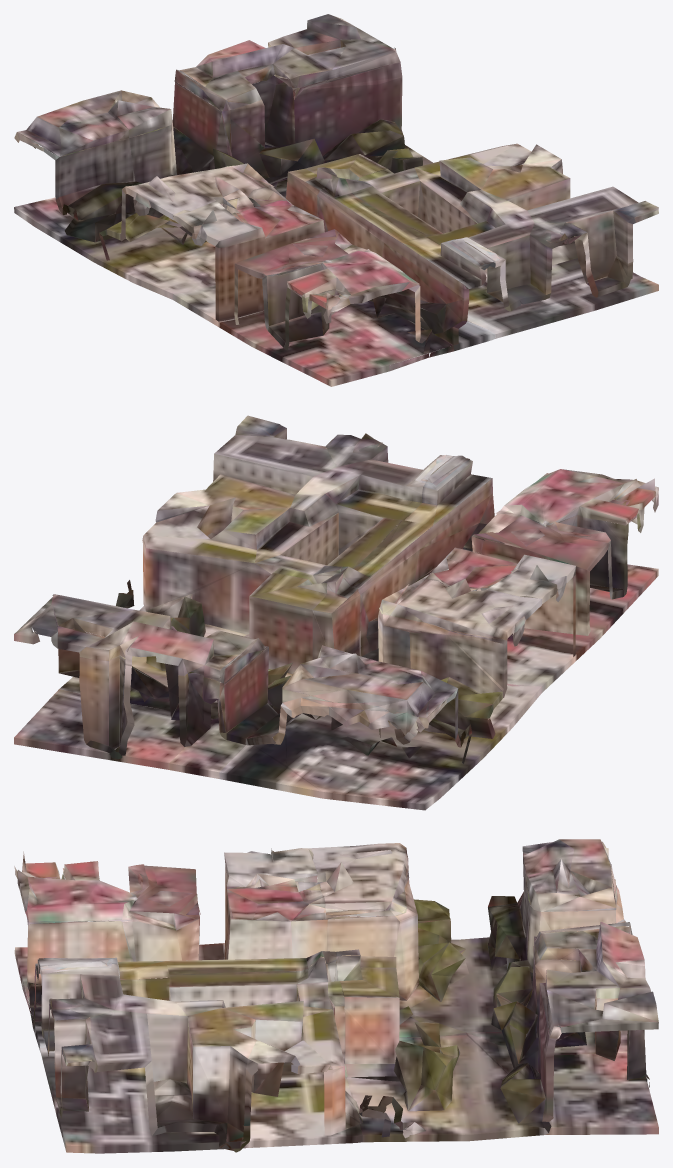
3 renders of one model, top to bottom at view 1: azimuth 30°, elevation 25°; view 2: azimuth 150°, elevation 25°; view 3: azimuth 270°, elevation 25°, orthographic. The views are drawn at different scales.
Visible parts, largest first — view 1: Mesh_0; view 2: Mesh_0; view 3: Mesh_0.
Boxes of the visible parts, x1,y1,x2,y2 form: Mesh_0: (14,14,658,386); Mesh_0: (14,415,658,810); Mesh_0: (14,839,658,1153).
Bounding box in the file's own units: 133 × 36.58 × 165.
1 material, 1 textured.
